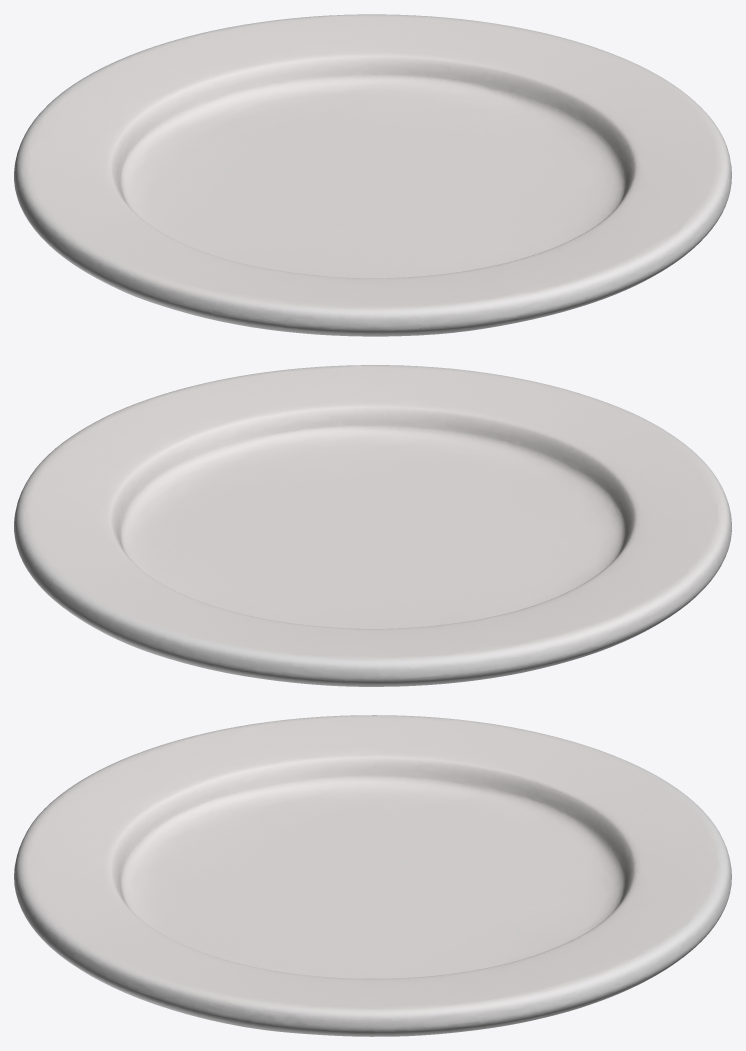
Rendered from plan_plate.glb.
3 renders of one model, top to bottom at view 1: azimuth 30°, elevation 25°; view 2: azimuth 150°, elevation 25°; view 3: azimuth 270°, elevation 25°, orthographic.
Size of the model in its own units: 1.9 by 0.1493 by 1.9.
1 material, 1 textured.
